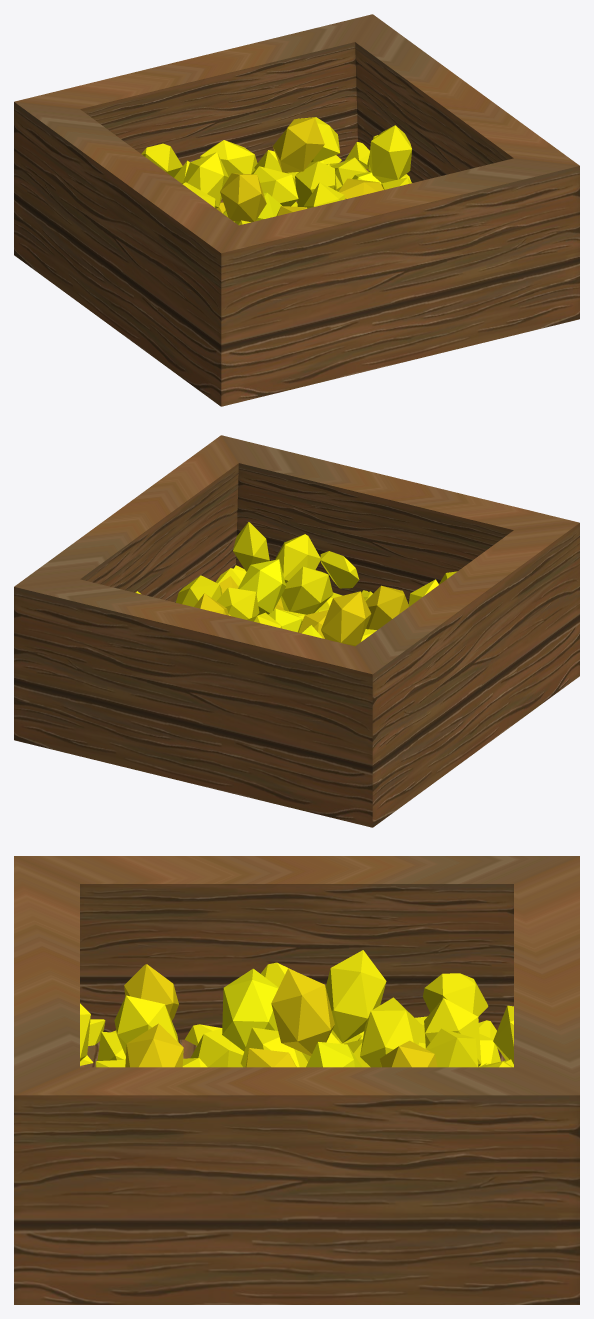
Rendered from LemonBox.fbx.
3 renders of one model, top to bottom at view 1: azimuth 30°, elevation 25°; view 2: azimuth 150°, elevation 25°; view 3: azimuth 270°, elevation 25°, orthographic. The views are drawn at different scales.
Visible parts, largest first — view 1: Cube, Icosphere; view 2: Cube, Icosphere; view 3: Cube, Icosphere.
Boxes of the visible parts, <box> form: Cube: <box>14,14,579,406</box>; Icosphere: <box>141,117,412,225</box>; Cube: <box>14,435,579,827</box>; Icosphere: <box>135,522,457,646</box>; Cube: <box>14,856,579,1304</box>; Icosphere: <box>80,950,513,1067</box>.
Bounding box in the file's own units: 200 × 81.73 × 200.
